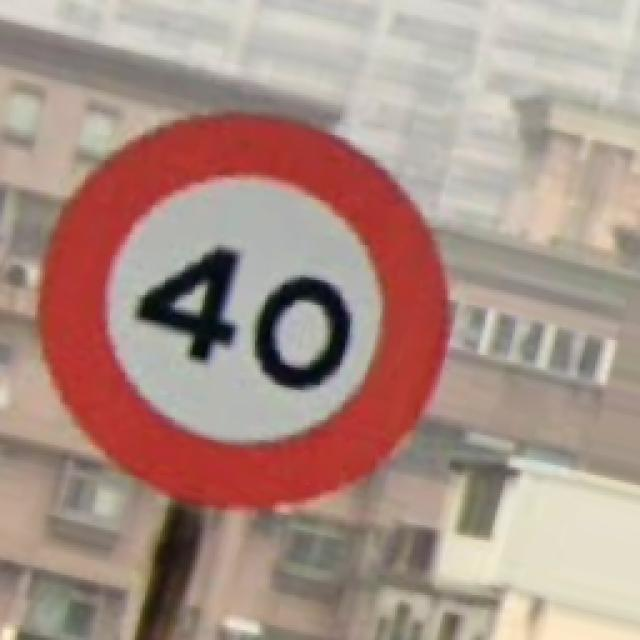Speed Limit -40-: (38, 115, 445, 502)
